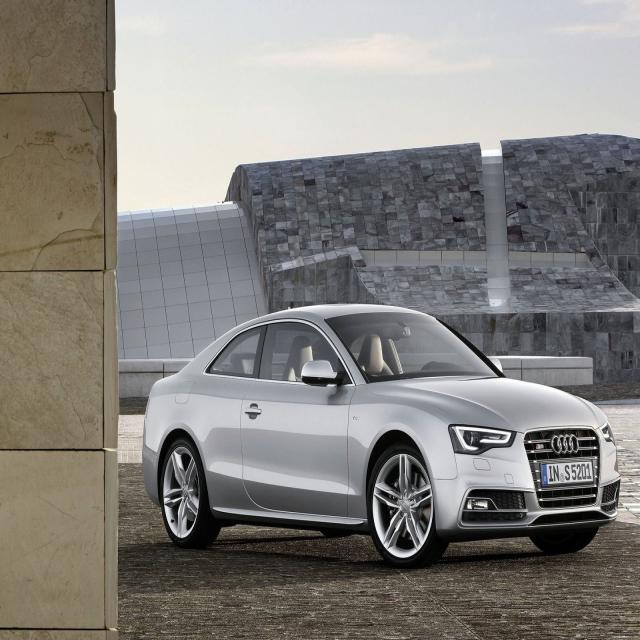car: (137, 270, 630, 596)
